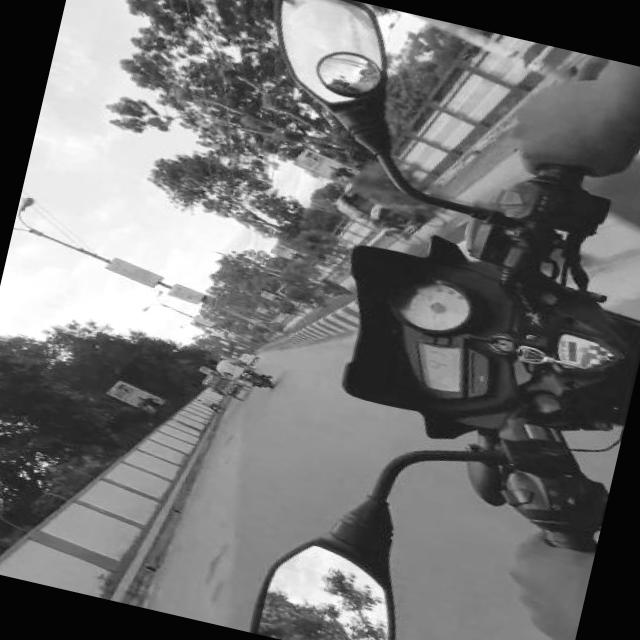car: (232, 350, 257, 364)
motorcycle: (246, 13, 640, 640), (318, 187, 439, 249), (198, 356, 276, 392), (192, 372, 250, 402)
